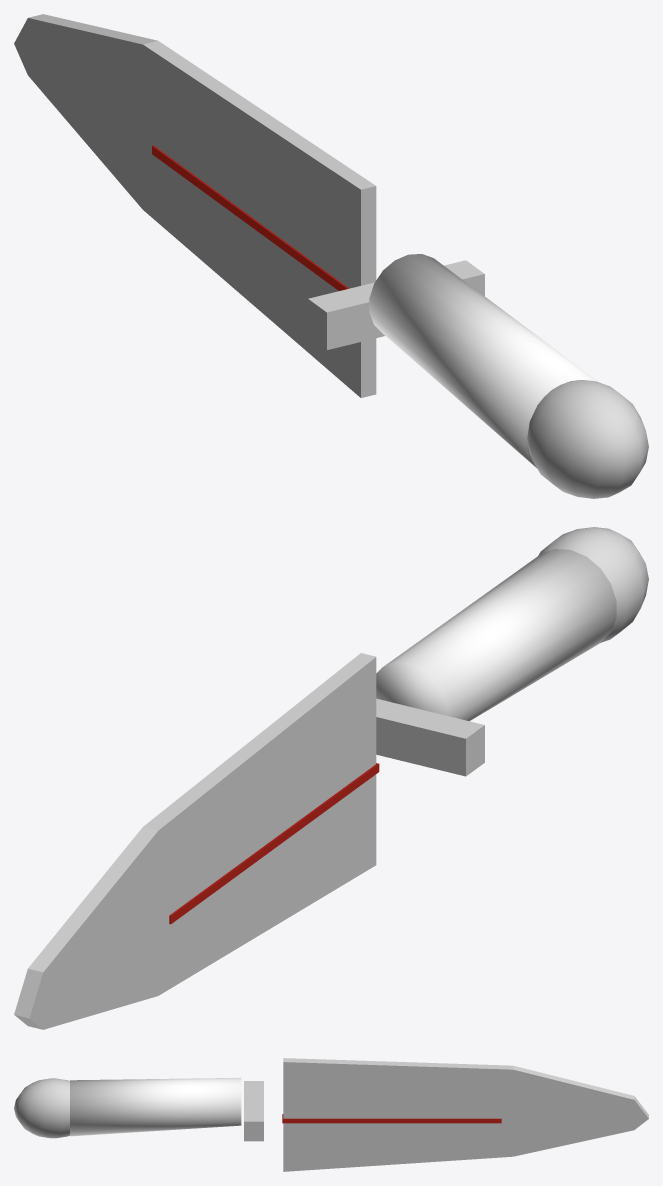
Rendered from item_dagger.glb.
3 renders of one model, top to bottom at view 1: azimuth 30°, elevation 25°; view 2: azimuth 150°, elevation 25°; view 3: azimuth 270°, elevation 25°, orthographic. The views are drawn at different scales.
Parts seen in each view (by area): view 1: Blade, BoneGrip, Pommel, Guard, Fuller-1; view 2: Blade, BoneGrip, Guard, Pommel, Fuller-1; view 3: Blade, BoneGrip, Pommel, Fuller1, Guard.
Boxes of the visible parts, x1,y1,x2,y2 form: Blade: (14, 14, 376, 397); BoneGrip: (369, 254, 599, 467); Pommel: (527, 380, 648, 498); Guard: (308, 260, 484, 349); Fuller-1: (152, 145, 348, 290); Blade: (14, 653, 376, 1029); BoneGrip: (376, 549, 616, 721); Guard: (376, 698, 484, 776); Pommel: (538, 527, 648, 642); Fuller-1: (169, 763, 379, 924); Blade: (283, 1058, 648, 1171); BoneGrip: (70, 1077, 241, 1136); Pommel: (14, 1078, 69, 1138); Fuller1: (282, 1118, 501, 1123); Guard: (244, 1081, 263, 1141).
Size of the model in its own units: 0.0416 by 0.0525 by 0.275.
